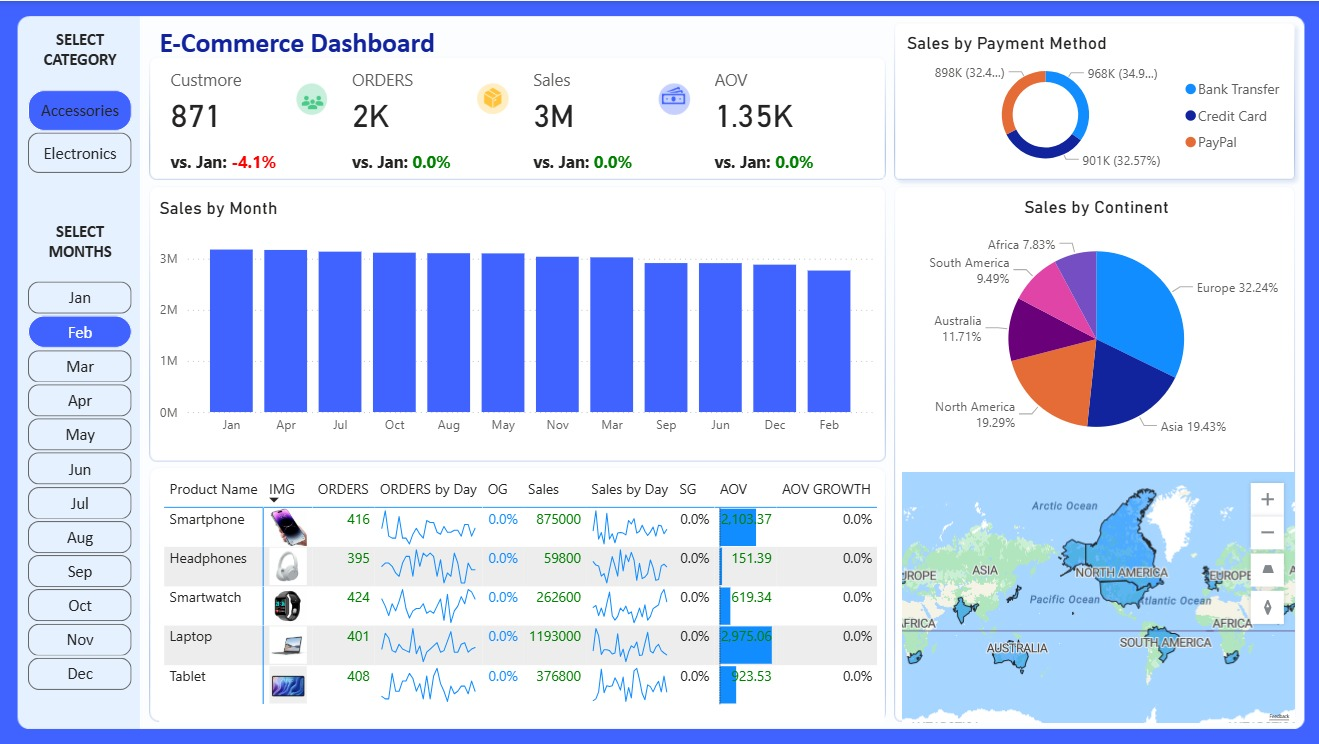

What the dashboard file says about the page in this screenshot:
{"tool":"powerbi","page":{"name":"Page 1","canvas":[1280,720],"ordinal":0},"visuals":[{"type":"cardVisual","fields":{"Data":["_Measures.Custmore","_Measures.Orders","_Measures.Sales","_Measures.AVD"]},"box":[149.5,57.5,712.5,118.8],"z":0},{"type":"advancedSlicerVisual","title":"SELECT MONTHS","fields":{"Values":["Calendar.Month"]},"box":[24.5,212.5,110,485],"z":1000},{"type":"listSlicer","title":"SELECT CATEGORY","fields":{"Values":["dimProduct.Category"]},"box":[24.5,27.5,110,576.2],"z":2000},{"type":"donutChart","fields":{"Y":["_Measures.Sales"],"Category":["DimPaymentMethod.Payment Method"]},"box":[872,30,378.8,138.8],"z":3000},{"type":"clusteredColumnChart","fields":{"Y":["_Measures.Sales"],"Category":["Calendar.Month"]},"box":[150.7,190,698.8,237.5],"z":4000},{"type":"pivotTable","fields":{"Values":["Min(dimProduct.Product Images.Img)","_Measures.ORDERS","SparklineData(_Measures.ORDERS_[Calendar.Date.Variation.Date Hierarchy.Day])","_Measures.ORDERS GROWTH","_Measures.Sales","SparklineData(_Measures.Sales_[Calendar.Date.Variation.Date Hierarchy.Day])","_Measures.SALES GROWTH","_Measures.AOV","_Measures.AOV GROWTH"],"Rows":["dimProduct.Product Name"]},"box":[155.5,454.6,699.9,242.4],"z":5000},{"type":"pieChart","fields":{"Y":["_Measures.Sales"],"Category":["dimCountry.Continent"]},"box":[871.6,188.7,378.4,255.8],"z":6000},{"type":"azureMap","fields":{"Category":["dimCountry.Country"]},"box":[871.7,455,379,242],"z":7000},{"type":"textbox","box":[150.4,19.2,517.4,45],"z":8000}]}

Visuals, with their boxes in screenshot pixels (x1, y1, x2, y2), scaled from the page's 1280x720 canvas onto the 1319x744 screenshot:
cardVisual - _Measures.Custmore x _Measures.Orders: (left=154, top=59, right=888, bottom=182)
"SELECT MONTHS" advancedSlicerVisual: (left=25, top=220, right=139, bottom=721)
"SELECT CATEGORY" listSlicer: (left=25, top=28, right=139, bottom=624)
donutChart - _Measures.Sales x DimPaymentMethod.Payment Method: (left=899, top=31, right=1289, bottom=174)
clusteredColumnChart - _Measures.Sales x Calendar.Month: (left=155, top=196, right=875, bottom=442)
pivotTable - Min(dimProduct.Product Images.Img) x _Measures.ORDERS: (left=160, top=470, right=881, bottom=720)
pieChart - _Measures.Sales x dimCountry.Continent: (left=898, top=195, right=1288, bottom=459)
azureMap - dimCountry.Country: (left=898, top=470, right=1289, bottom=720)
textbox: (left=155, top=20, right=688, bottom=66)
